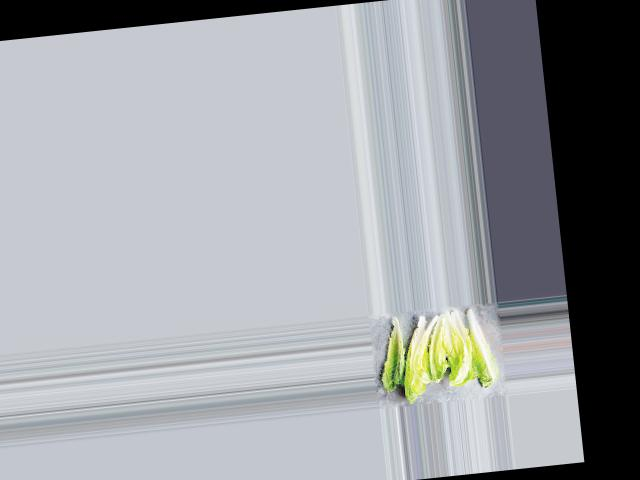lettuce: (377, 313, 410, 391)
